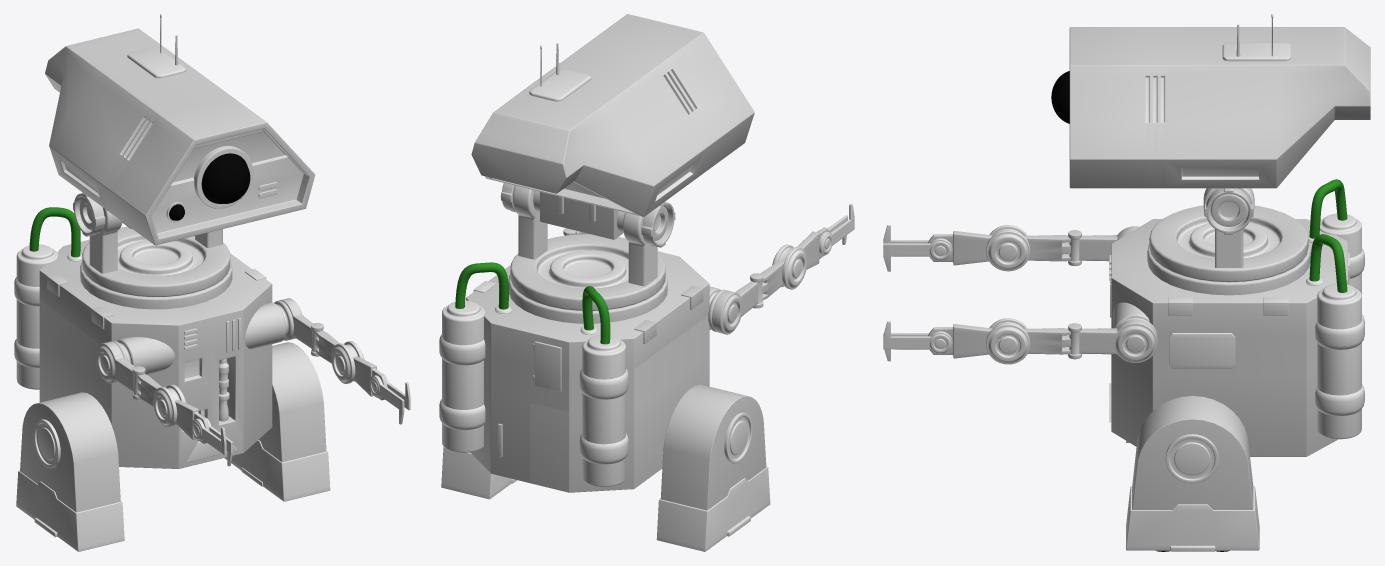
Rendered from Master.fbx.
3 views of the same model, side by side, from view 1: azimuth 30°, elevation 25°; view 2: azimuth 150°, elevation 25°; view 3: azimuth 270°, elevation 25° (orthographic). The views are drawn at different scales.
Parts seen in each view (by area): view 1: HEAD, body, leg.R, leg.L, neck, Cylinder.010, Sphere, Cylinder.004, neckbody, Cylinder.015, Cylinder.018, Cylinder.011 (+8 smaller); view 2: HEAD, body, leg.R, neck, Cylinder.004, Cylinder.005, leg.L, BezierCurve, neckbody, Cylinder.015, Cylinder.011, Cube.001 (+2 smaller); view 3: HEAD, body, leg.L, neck, Cylinder.004, Cylinder.015, Cylinder.018, Cylinder.019, Cylinder.005, neckbody, BezierCurve, Cylinder.021 (+7 smaller).
Part boxes in pixels (<box>): HEAD: <box>45,28,315,245</box>; body: <box>39,239,272,468</box>; leg.R: <box>16,392,124,551</box>; leg.L: <box>224,342,330,501</box>; neck: <box>82,207,230,297</box>; Cylinder.010: <box>111,300,293,374</box>; Sphere: <box>194,146,253,208</box>; Cylinder.004: <box>16,244,82,389</box>; neckbody: <box>80,261,232,309</box>; Cylinder.015: <box>153,384,209,443</box>; Cylinder.018: <box>331,341,387,400</box>; Cylinder.011: <box>96,341,134,391</box>; HEAD: <box>471,14,754,247</box>; body: <box>466,251,709,492</box>; leg.R: <box>656,384,770,551</box>; neck: <box>510,185,665,310</box>; Cylinder.004: <box>442,300,625,486</box>; Cylinder.005: <box>439,334,628,464</box>; leg.L: <box>441,447,516,499</box>; BezierCurve: <box>455,262,610,344</box>; neckbody: <box>508,273,667,323</box>; Cylinder.015: <box>772,227,829,289</box>; Cylinder.011: <box>712,281,757,334</box>; Cube.001: <box>529,69,591,101</box>; HEAD: <box>1069,27,1370,234</box>; body: <box>1109,219,1349,456</box>; leg.L: <box>1126,396,1259,551</box>; neck: <box>1149,188,1308,282</box>; Cylinder.004: <box>1306,213,1361,439</box>; Cylinder.015: <box>928,225,1030,271</box>; Cylinder.018: <box>928,318,1030,364</box>; Cylinder.019: <box>1079,319,1157,363</box>; Cylinder.005: <box>1315,248,1364,415</box>; neckbody: <box>1147,244,1310,295</box>; BezierCurve: <box>1309,179,1347,292</box>; Cylinder.021: <box>1024,323,1081,359</box>.
Bounding box in the file's own units: 67.74 × 116 × 104.
